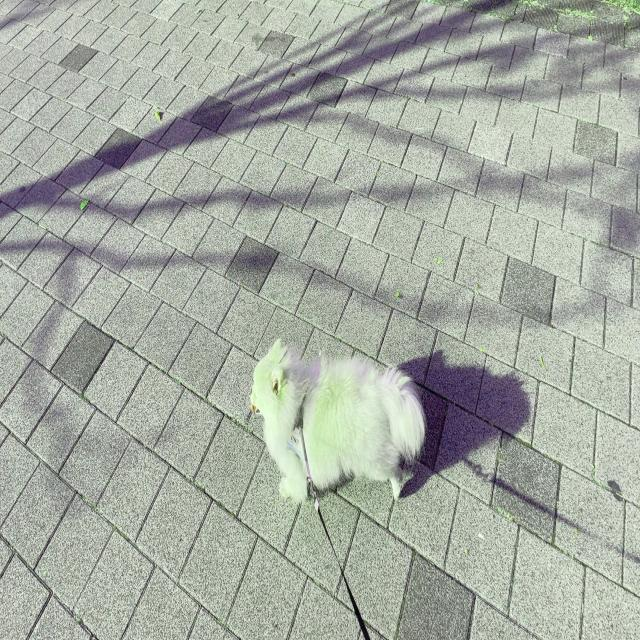Dog: (248, 336, 426, 504)
